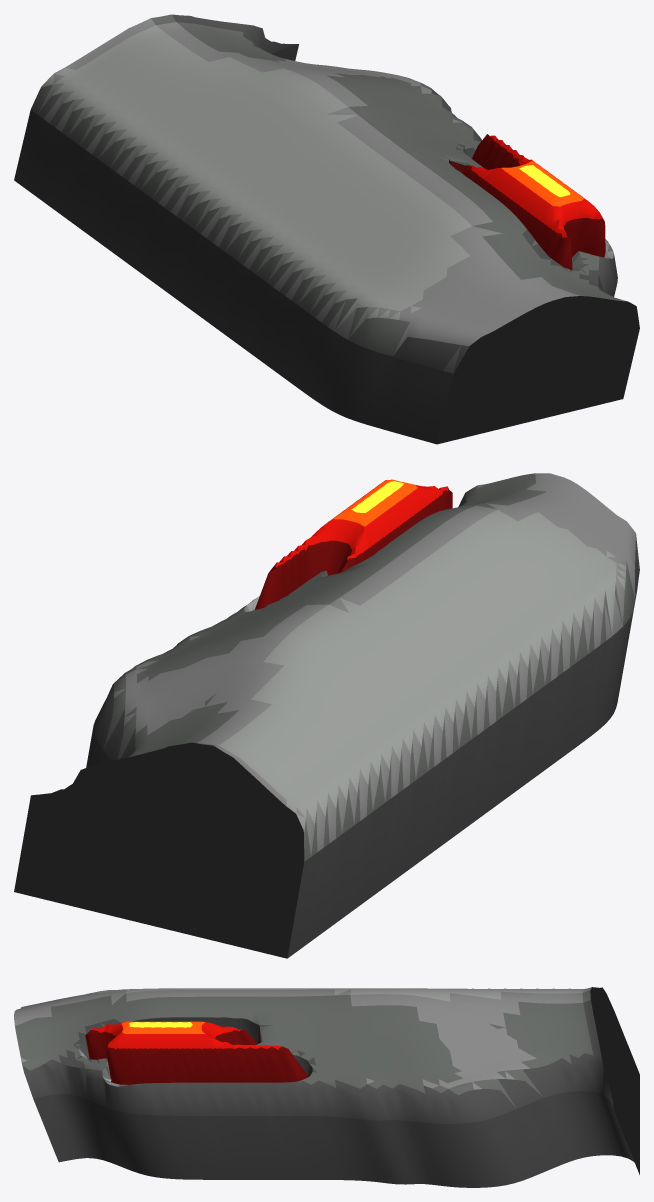
Rendered from pincer_l_side.glb.
3 renders of one model, top to bottom at view 1: azimuth 30°, elevation 25°; view 2: azimuth 150°, elevation 25°; view 3: azimuth 270°, elevation 25°, orthographic. The views are drawn at different scales.
Visible parts, largest first — view 1: pincer_l_side; view 2: pincer_l_side; view 3: pincer_l_side.
Boxes of the visible parts, x1,y1,x2,y2 form: pincer_l_side: (14,14,639,444); pincer_l_side: (14,473,639,958); pincer_l_side: (14,987,639,1187).
Bounding box in the file's own units: 12.92 × 7.22 × 30.16.
